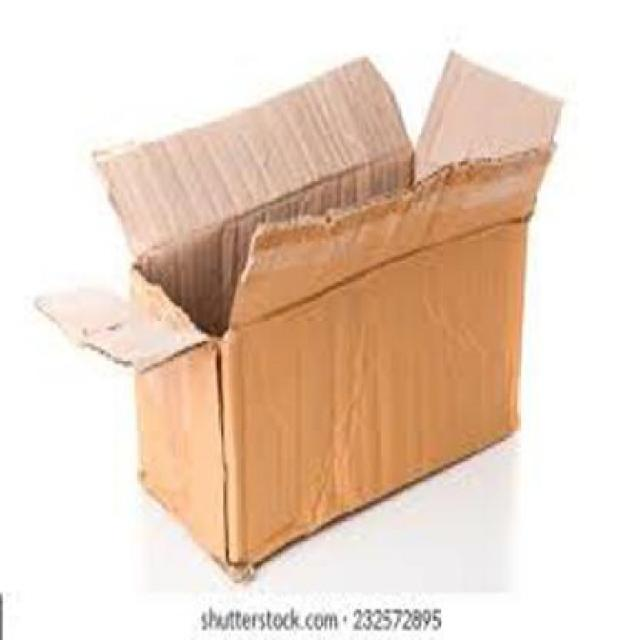defect: (34, 45, 569, 586)
